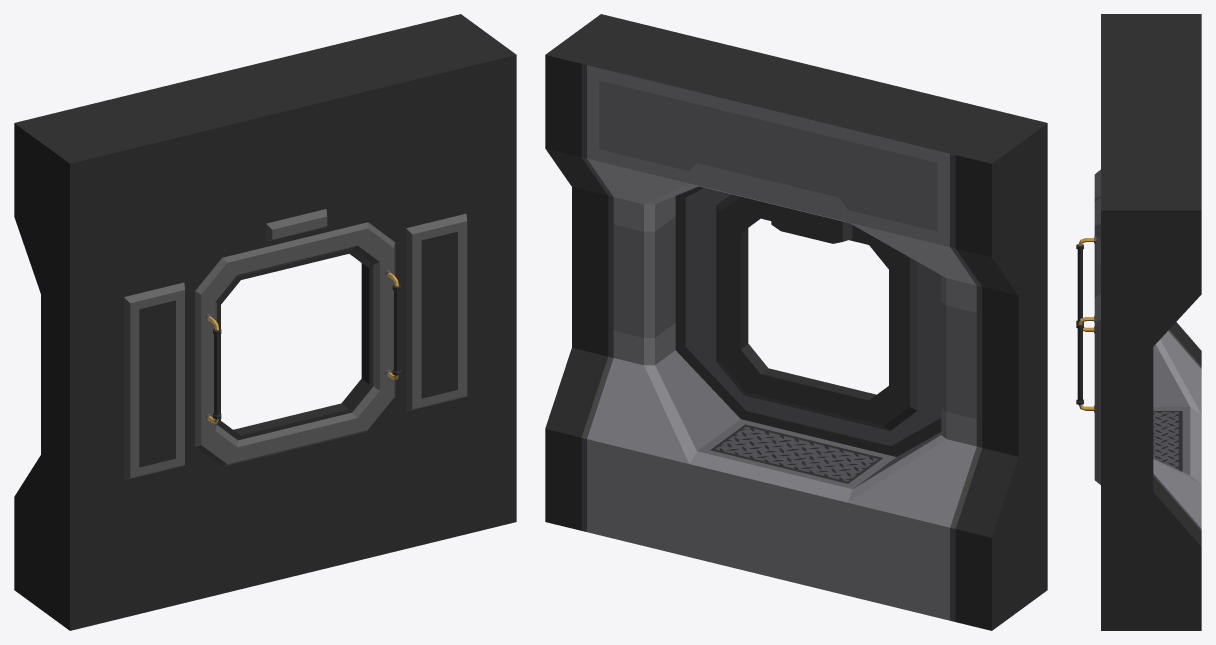
File: SM_Bld_Wall_EscPod_Hatch_01.fbx
The picture shows the model from 3 angles, left to right: view 1: azimuth 30°, elevation 25°; view 2: azimuth 150°, elevation 25°; view 3: azimuth 270°, elevation 25°; orthographic projection. The views are drawn at different scales.
Visible parts, largest first — view 1: SM_Bld_Wall_EscPod_Hatch_01_LOD0; view 2: SM_Bld_Wall_EscPod_Hatch_01_LOD0; view 3: SM_Bld_Wall_EscPod_Hatch_01_LOD0.
Part boxes in pixels (<box>): SM_Bld_Wall_EscPod_Hatch_01_LOD0: <box>14,14,516,630</box>; SM_Bld_Wall_EscPod_Hatch_01_LOD0: <box>545,14,1047,630</box>; SM_Bld_Wall_EscPod_Hatch_01_LOD0: <box>1076,14,1201,630</box>.
Bounding box in the file's own units: 135 × 500 × 500.
1 material, 1 textured.
